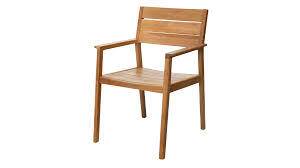chair: (91, 5, 209, 161)
